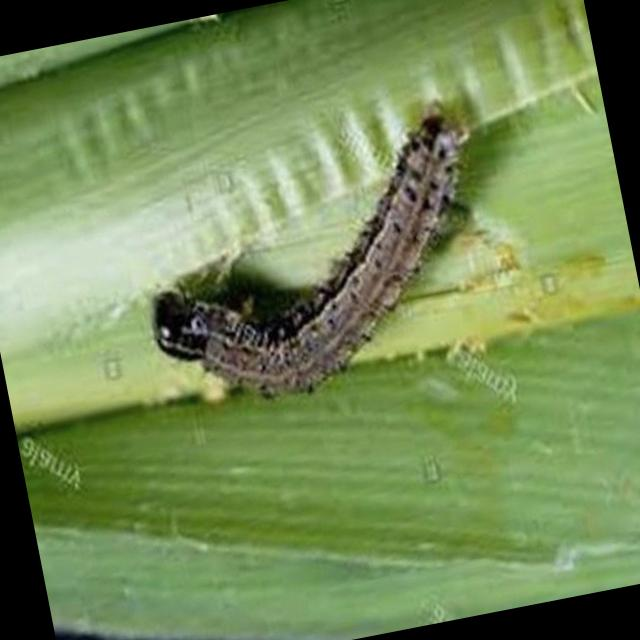pest: (127, 129, 507, 413)
